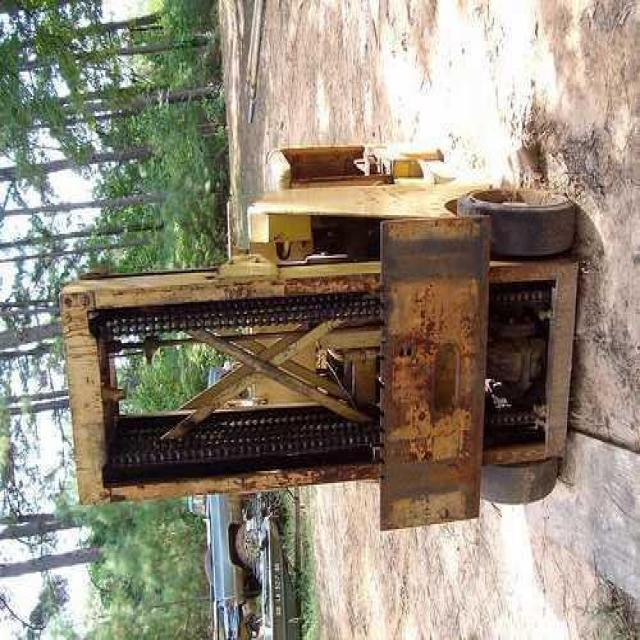Chariot elevateur: (59, 138, 578, 531)
